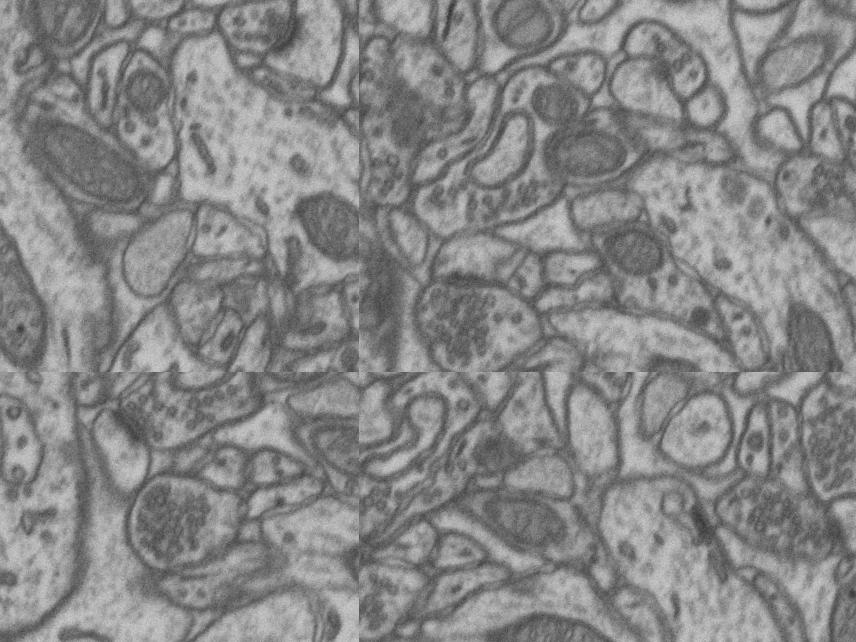mitochondria: (19, 108, 156, 219), (0, 187, 72, 372), (470, 599, 668, 642), (470, 482, 572, 554), (285, 182, 359, 275), (770, 293, 850, 372), (538, 120, 632, 187), (591, 214, 676, 286), (15, 0, 111, 62), (112, 50, 178, 129), (292, 410, 359, 483), (482, 0, 562, 61), (632, 345, 773, 372), (818, 559, 856, 642), (530, 78, 582, 133), (248, 372, 341, 400)
